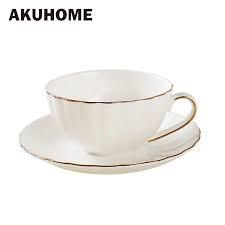cup: (43, 67, 196, 157)
